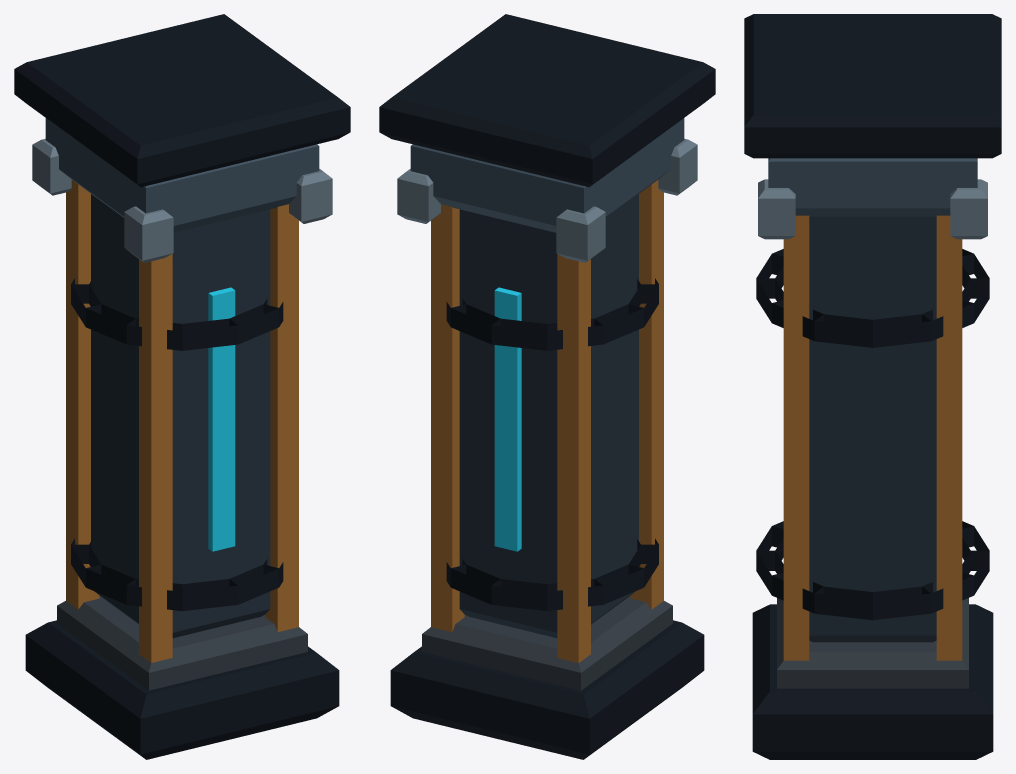
The model's file is sentinel_pillar.obj.
3 renders of one model, left to right at view 1: azimuth 30°, elevation 25°; view 2: azimuth 150°, elevation 25°; view 3: azimuth 270°, elevation 25°, orthographic. The views are drawn at different scales.
Visible parts, largest first — view 1: fissure_sentinel_column; view 2: fissure_sentinel_column; view 3: fissure_sentinel_column.
Part boxes in pixels (bbox=[...]): fissure_sentinel_column: bbox=[14, 14, 350, 759]; fissure_sentinel_column: bbox=[379, 14, 715, 759]; fissure_sentinel_column: bbox=[744, 14, 1001, 759].
Bounding box in the file's own units: 1.5 × 4.19 × 1.5.
